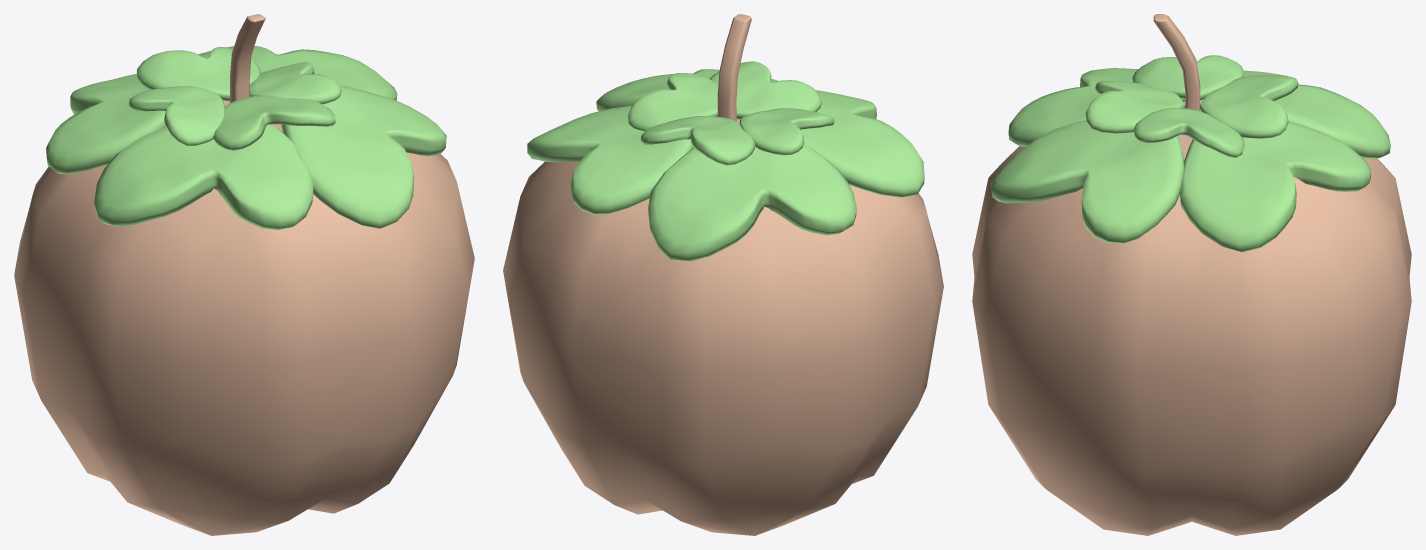
File: fruit_01.fbx
3 views of the same model, side by side, from view 1: azimuth 30°, elevation 25°; view 2: azimuth 150°, elevation 25°; view 3: azimuth 270°, elevation 25° (orthographic). The views are drawn at different scales.
Visible parts, largest first — view 1: fruit_02; view 2: fruit_02; view 3: fruit_02.
Boxes of the visible parts, x1,y1,x2,y2 form: fruit_02: (14, 14, 474, 535); fruit_02: (503, 14, 943, 535); fruit_02: (972, 14, 1411, 535).
Bounding box in the file's own units: 0.7003 × 0.8451 × 0.7003.
